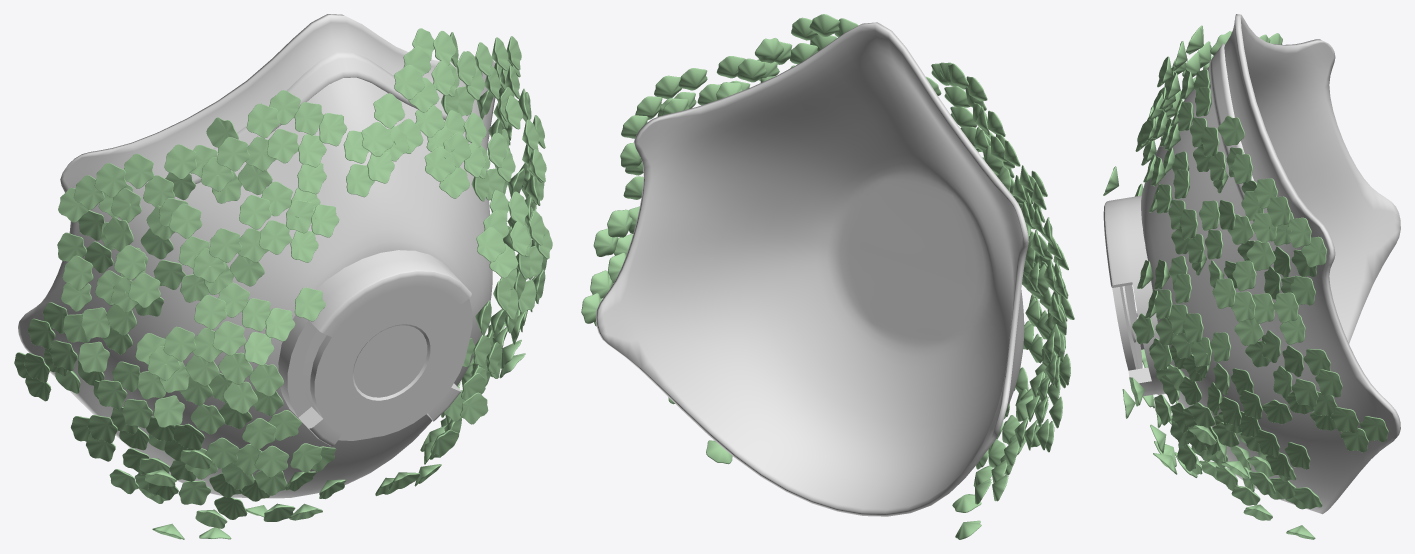
The model's file is mask3.glb.
3 views of the same model, side by side, from view 1: azimuth 30°, elevation 25°; view 2: azimuth 150°, elevation 25°; view 3: azimuth 270°, elevation 25° (orthographic). The views are drawn at different scales.
Visible parts, largest first — view 1: Plane, Cylinder, Circle.171, Circle.305, Circle.170, Circle.266, Circle.277, Circle.309, Circle.270, Circle.278, Circle.304, Circle.183 (+61 smaller); view 2: Plane; view 3: Plane, Cylinder, Circle.140, Circle.085, Circle.142, Circle.136, Circle.079, Circle.165, Circle.093, Circle.081, Circle.082, Circle.139 (+62 smaller).
Boxes of the visible parts, x1,y1,x2,y2 form: Plane: (18,14,495,498); Cylinder: (278,250,472,446); Circle.171: (194,295,227,329); Circle.305: (246,103,279,138); Circle.170: (213,321,245,355); Circle.266: (239,195,271,229); Circle.277: (169,203,202,238); Circle.309: (217,137,249,171); Circle.270: (209,228,241,262); Circle.278: (164,144,197,179); Circle.304: (267,129,298,163); Circle.183: (163,326,196,361); Plane: (595,22,1028,516); Plane: (1141,14,1400,514); Cylinder: (1103,195,1165,396); Circle.140: (1246,240,1275,270); Circle.085: (1273,292,1298,323); Circle.142: (1286,217,1311,248); Circle.136: (1290,275,1315,305); Circle.079: (1232,260,1256,291); Circle.165: (1218,115,1244,146); Circle.093: (1315,369,1342,397); Circle.081: (1230,291,1255,322); Circle.082: (1234,317,1263,345); Circle.139: (1251,213,1277,242).
Size of the model in its own units: 2.16 by 2.11 by 1.17.
